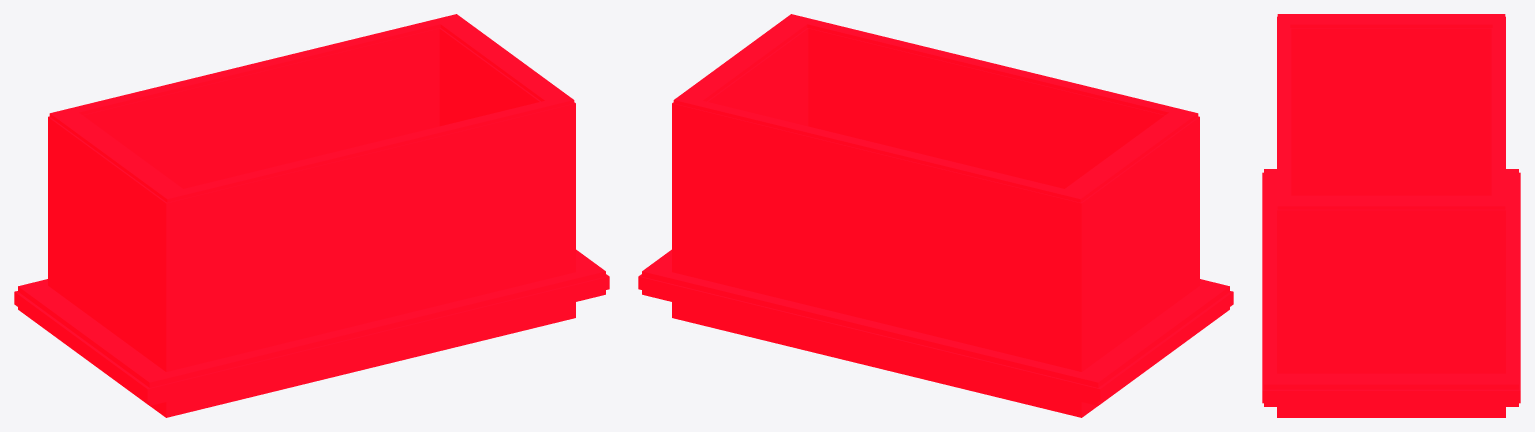
3 views of the same model, side by side, from view 1: azimuth 30°, elevation 25°; view 2: azimuth 150°, elevation 25°; view 3: azimuth 270°, elevation 25° (orthographic). The views are drawn at different scales.
Parts seen in each view (by area): view 1: Cube; view 2: Cube; view 3: Cube.
Boxes of the visible parts, <box> form: Cube: <box>14,14,609,417</box>; Cube: <box>638,14,1233,417</box>; Cube: <box>1262,14,1520,417</box>.
Bounding box in the file's own units: 451 × 203 × 225.
